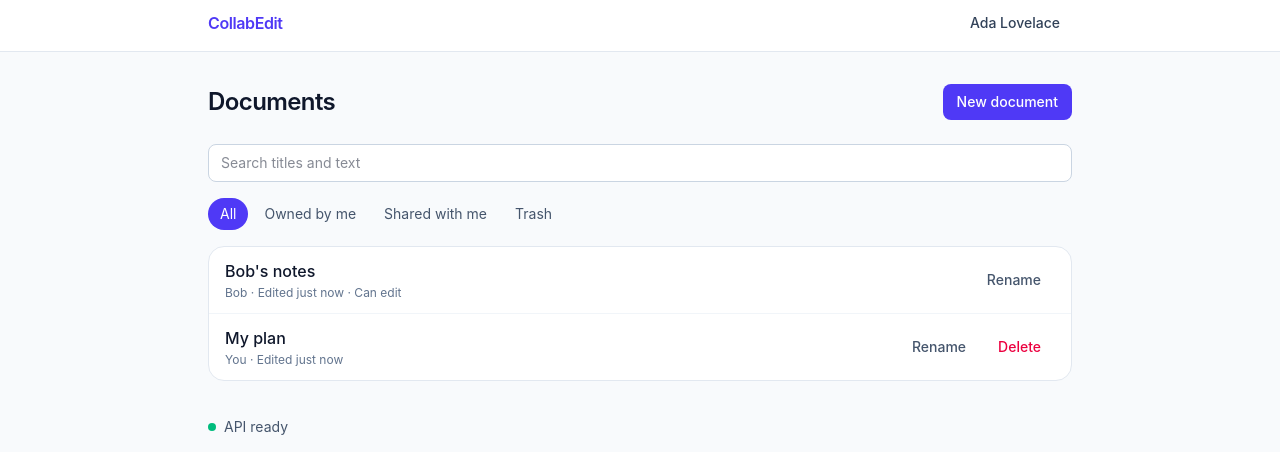
Test case: dashboard search › says so when nothing matches
Expected: the link "My plan" is shown, [225,328,286,348]
Type "zebra" into the search field named "Search documents" at (640, 163), box [208,144,1072,182]
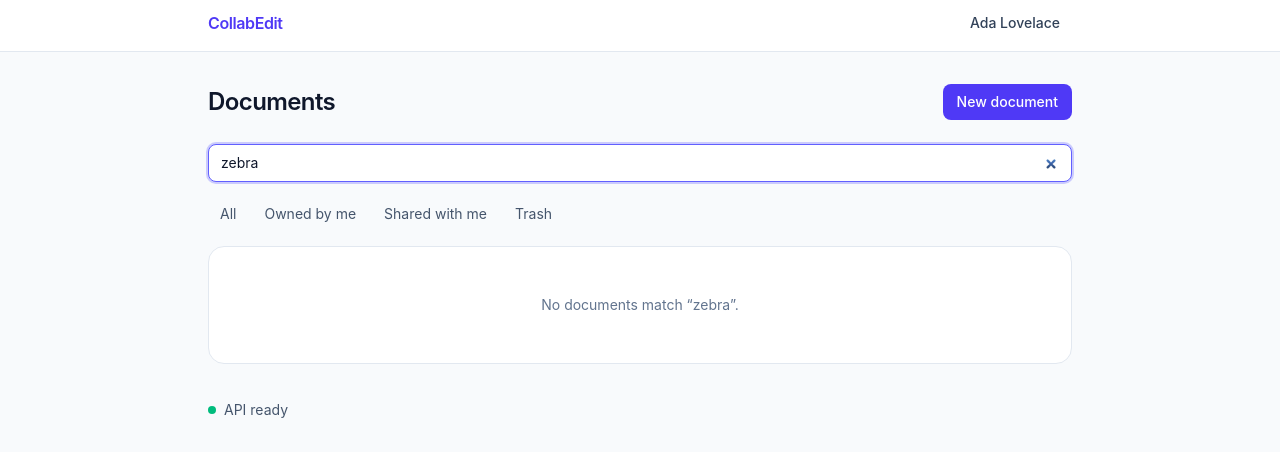
Now the text "No documents match “zebra”." is shown, box [541,296,739,313]
